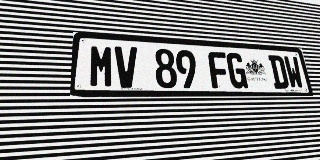8: (154, 48, 178, 88)
9: (175, 49, 198, 88)
D: (268, 55, 290, 89)
F: (208, 51, 230, 88)
G: (226, 52, 248, 88)
M: (89, 44, 114, 88)
V: (115, 46, 138, 88)
W: (283, 56, 305, 89)
